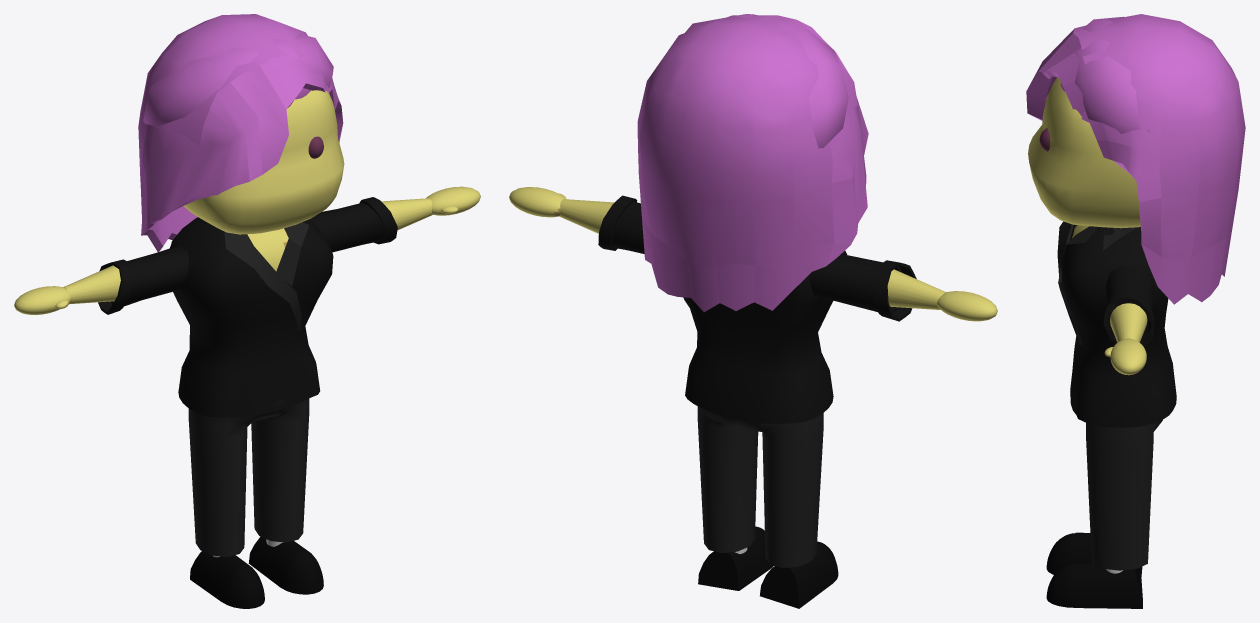
The model's file is AphroditeRigged2 1.fbx.
3 views of the same model, side by side, from view 1: azimuth 30°, elevation 25°; view 2: azimuth 150°, elevation 25°; view 3: azimuth 270°, elevation 25° (orthographic). The views are drawn at different scales.
Parts seen in each view (by area): view 1: pasted__pCylinder4; view 2: pasted__pCylinder4; view 3: pasted__pCylinder4.
Part boxes in pixels (bbox=[...]): pasted__pCylinder4: bbox=[14, 14, 480, 608]; pasted__pCylinder4: bbox=[509, 14, 997, 608]; pasted__pCylinder4: bbox=[1026, 14, 1245, 608].
Bounding box in the file's own units: 145 × 162 × 57.41.
